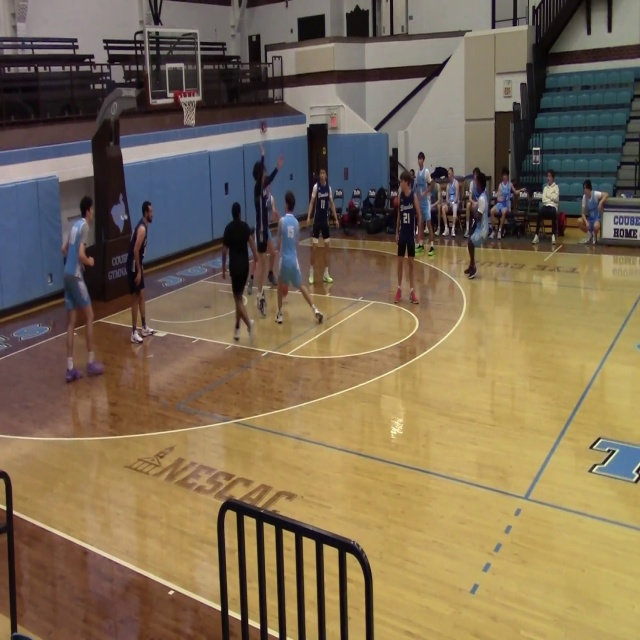Basketball: (279, 282, 288, 296), (260, 121, 267, 133)
